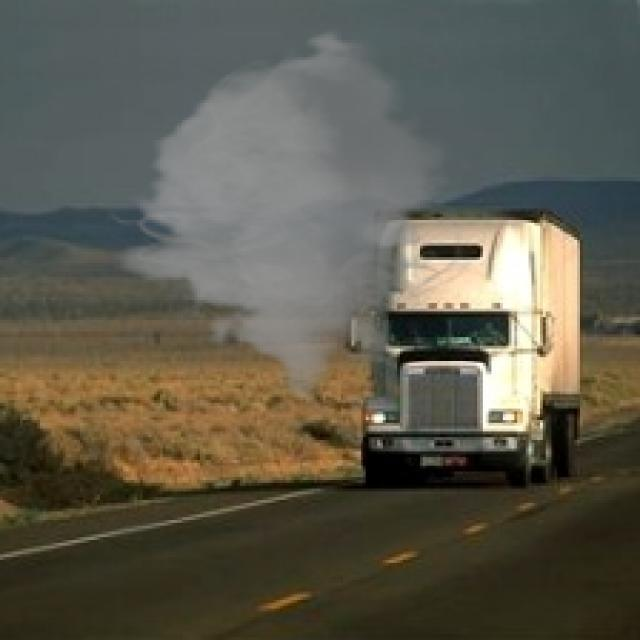Smoke: (103, 28, 480, 403)
